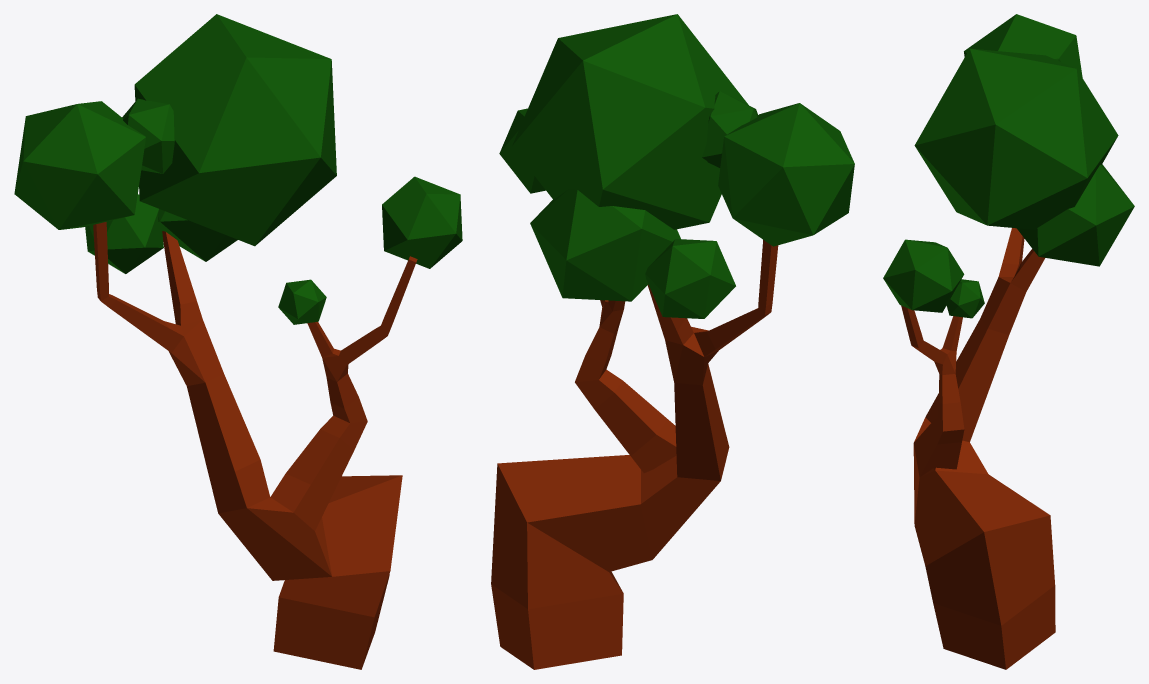
The model's file is tree_round2.glb.
3 views of the same model, side by side, from view 1: azimuth 30°, elevation 25°; view 2: azimuth 150°, elevation 25°; view 3: azimuth 270°, elevation 25° (orthographic). The views are drawn at different scales.
Parts seen in each view (by area): view 1: tree_round2; view 2: tree_round2; view 3: tree_round2.
Boxes of the visible parts, left/top/right/bottom form: tree_round2: left=14, top=14, right=462, bottom=669; tree_round2: left=491, top=14, right=854, bottom=669; tree_round2: left=883, top=14, right=1134, bottom=669.
Bounding box in the file's own units: 0.8838 × 1.39 × 0.5708.
